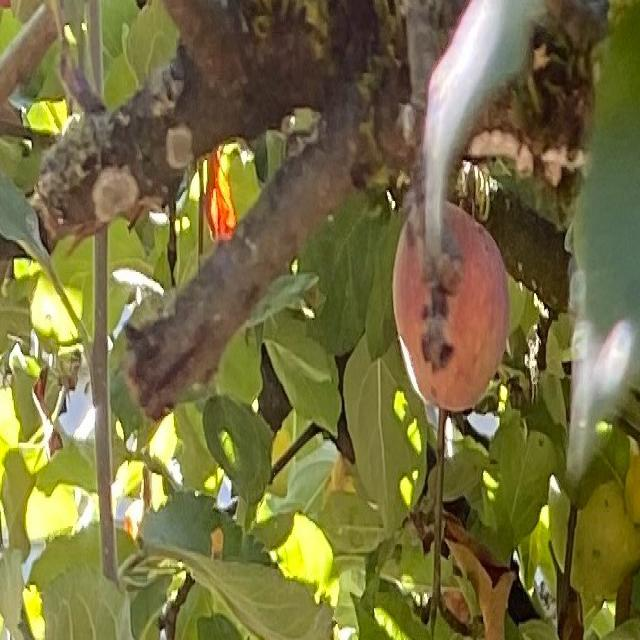Apples: (393, 206, 509, 407)
